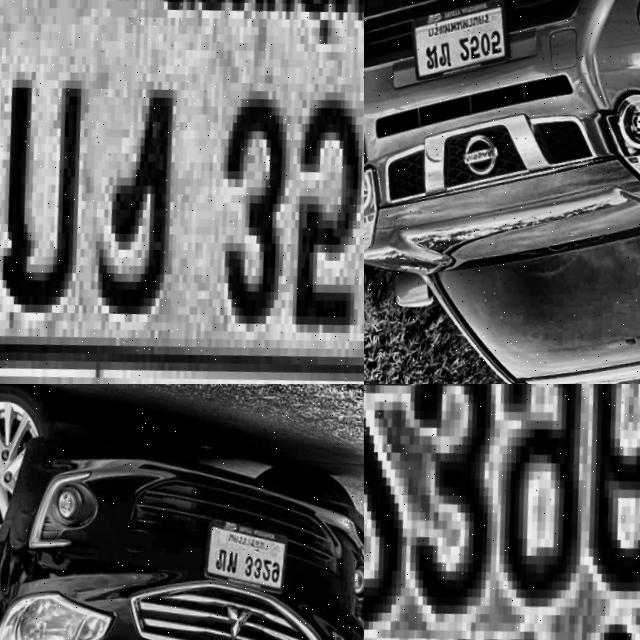license-plate: (0, 0, 364, 384), (364, 384, 640, 640), (407, 0, 521, 87), (201, 503, 303, 593)
